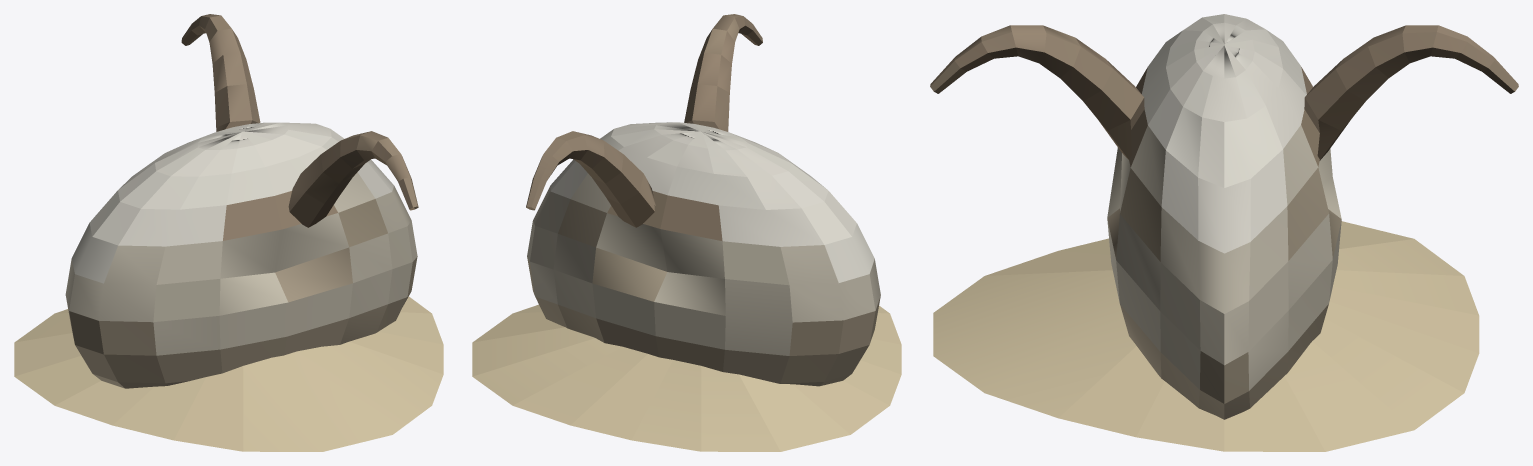
The model's file is Bone_Skull.glb.
The picture shows the model from 3 angles, left to right: view 1: azimuth 30°, elevation 25°; view 2: azimuth 150°, elevation 25°; view 3: azimuth 270°, elevation 25°; orthographic projection. The views are drawn at different scales.
Parts seen in each view (by area): view 1: Bone_Skull_Merged; view 2: Bone_Skull_Merged; view 3: Bone_Skull_Merged.
Boxes of the visible parts, box(x1,y1,x2,y2) form: Bone_Skull_Merged: box(14, 14, 443, 451); Bone_Skull_Merged: box(472, 14, 901, 451); Bone_Skull_Merged: box(930, 14, 1518, 451).
Size of the model in its own units: 1.3 by 1.03 by 1.38.
